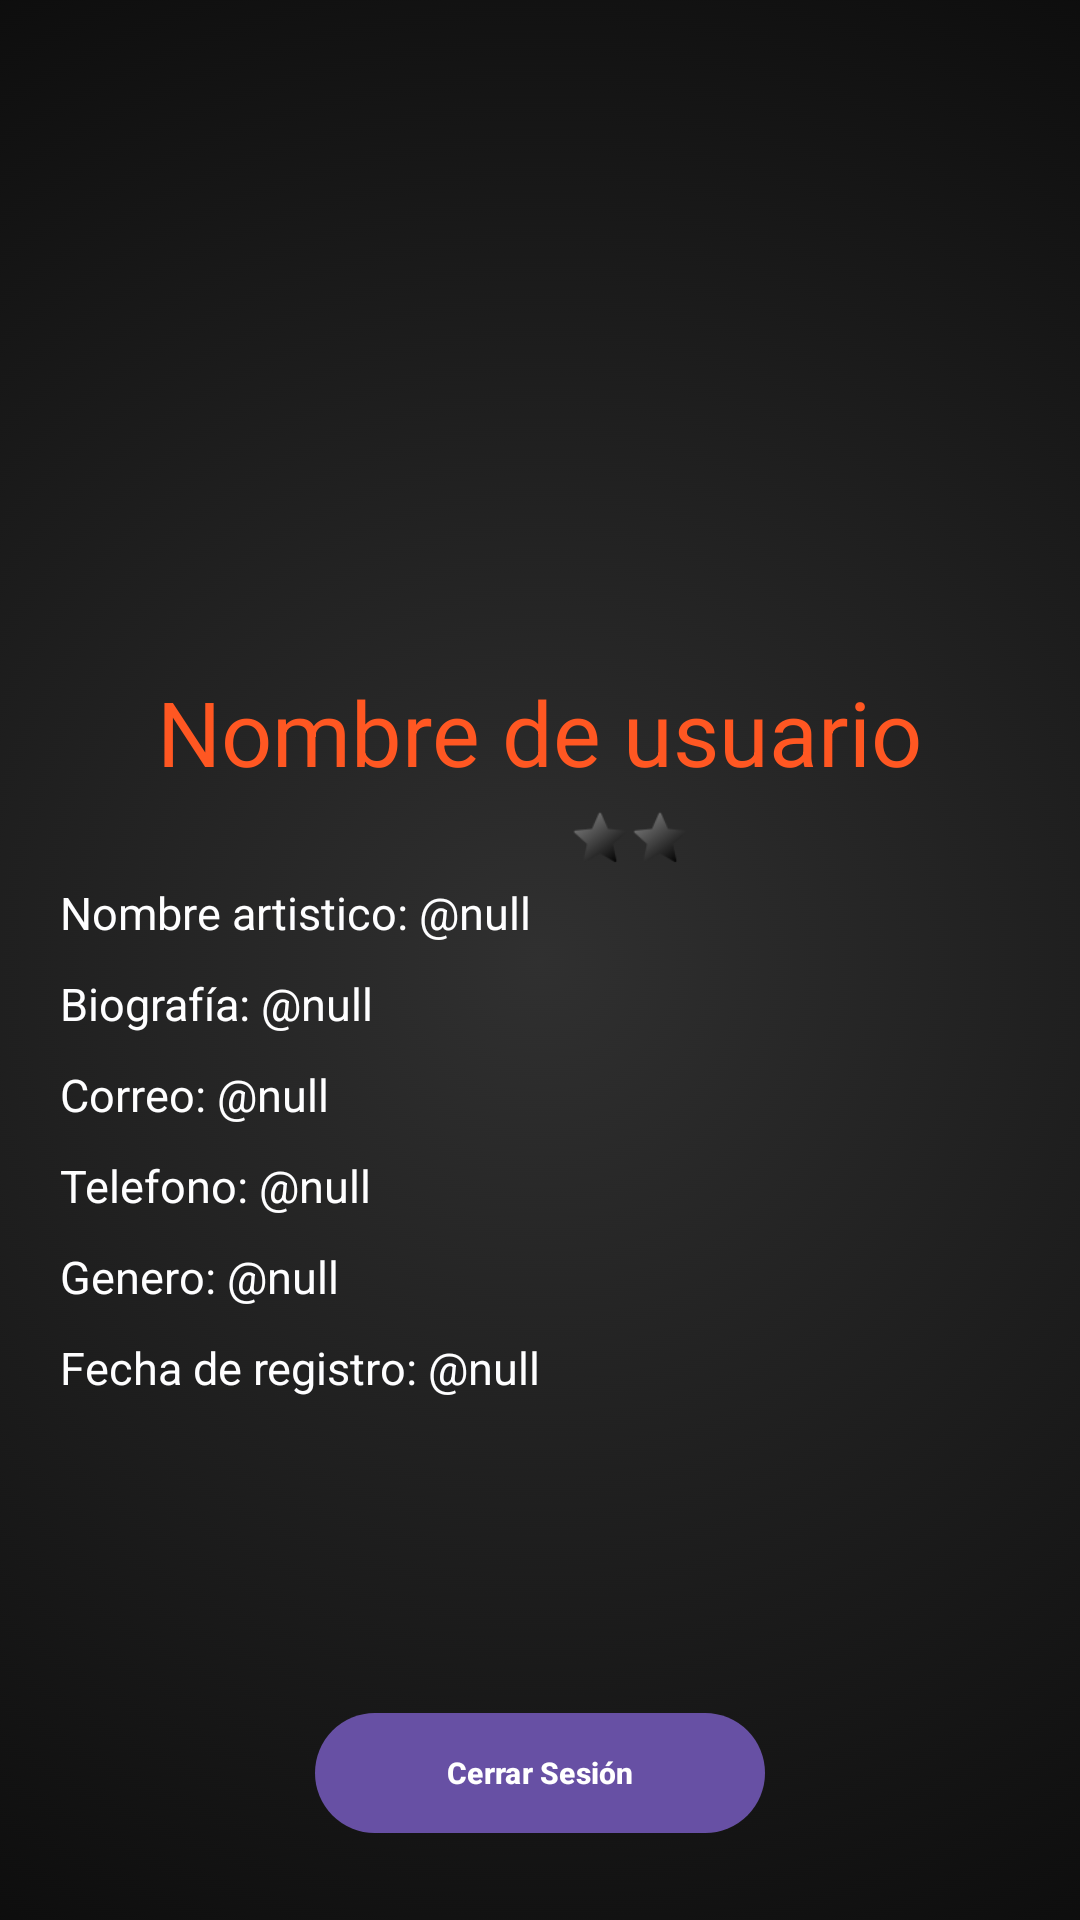

Icons on this 1080x1920 Android screen, each with its box as rect(x1, y1, x2, y2):
star: rect(574, 813, 616, 862), rect(634, 813, 676, 862)
